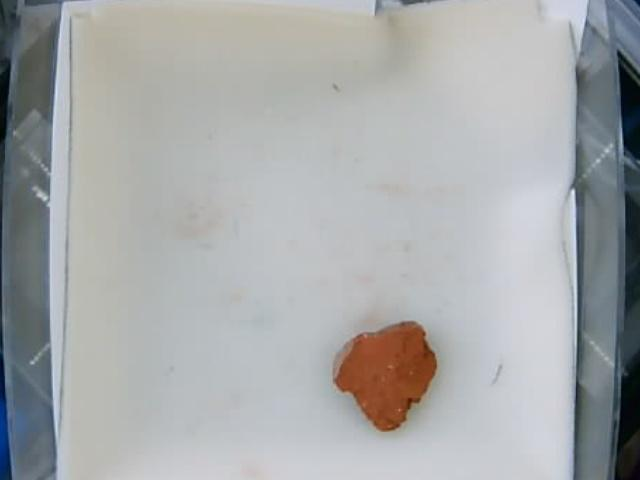Brisk: (332, 318, 435, 431)
